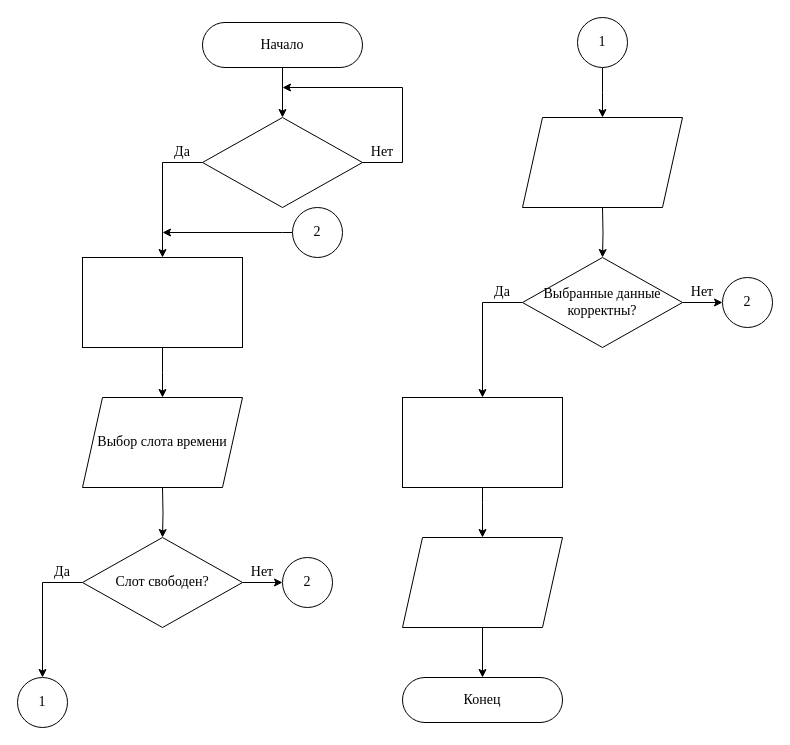
Image size: 790x745. Some labels were removed from this diagram. Each missing label, with the centre of its shape:
Бронирование завершено: (x=482, y=442)
Выбор категории бронирования: (x=602, y=162)
Есть ли интернет-соединение?: (x=282, y=162)
Отображение бронирования в профиле: (x=482, y=582)
Проверка занятых слотов времени отображаемого дня: (x=162, y=302)
